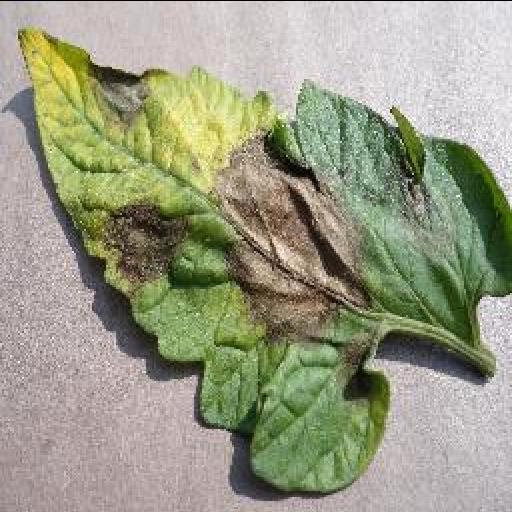disease_tomato: (14, 25, 512, 495)
